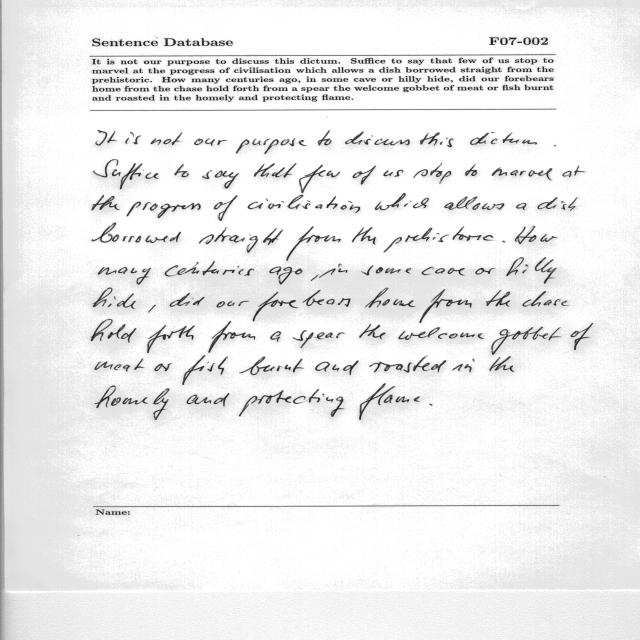word: (253, 290, 351, 321), (239, 389, 344, 417), (384, 226, 493, 252), (95, 385, 170, 420), (359, 383, 420, 420), (199, 227, 283, 253), (248, 195, 360, 213), (491, 327, 561, 355), (286, 226, 341, 261), (93, 160, 159, 189), (419, 289, 472, 323), (92, 223, 181, 243), (209, 321, 256, 353), (182, 355, 228, 385), (164, 261, 254, 276), (147, 325, 195, 353), (506, 258, 557, 284), (370, 356, 446, 373), (127, 202, 201, 218), (239, 357, 304, 375), (299, 165, 340, 193), (236, 138, 306, 154), (399, 327, 484, 340), (91, 319, 136, 343), (365, 288, 415, 308), (293, 330, 345, 348), (375, 193, 429, 210), (93, 288, 136, 309), (98, 267, 151, 284), (470, 132, 537, 145), (345, 132, 410, 145), (445, 196, 505, 210), (492, 168, 552, 181), (414, 163, 451, 184), (515, 226, 557, 244), (523, 291, 569, 307), (202, 170, 239, 189), (315, 361, 359, 376), (254, 163, 297, 178), (95, 359, 144, 372), (214, 195, 238, 221), (269, 267, 303, 285), (187, 393, 230, 407), (571, 323, 593, 350), (538, 197, 578, 211), (169, 293, 205, 307), (361, 266, 411, 276), (420, 133, 454, 147), (353, 166, 376, 185), (352, 227, 376, 245), (92, 195, 120, 210), (151, 132, 183, 145), (486, 290, 510, 307), (359, 324, 386, 339), (490, 356, 515, 372), (319, 264, 347, 278), (422, 267, 465, 276), (96, 130, 116, 146), (452, 359, 474, 372), (194, 138, 227, 146), (563, 166, 586, 177), (216, 301, 249, 307), (318, 131, 331, 146), (125, 132, 141, 144), (175, 164, 189, 177), (384, 169, 404, 177), (465, 164, 477, 176), (154, 364, 172, 372), (475, 268, 495, 275), (270, 331, 281, 342), (516, 203, 526, 210), (148, 305, 156, 313), (311, 275, 318, 281), (430, 404, 433, 406), (502, 241, 506, 242), (554, 145, 556, 146)
